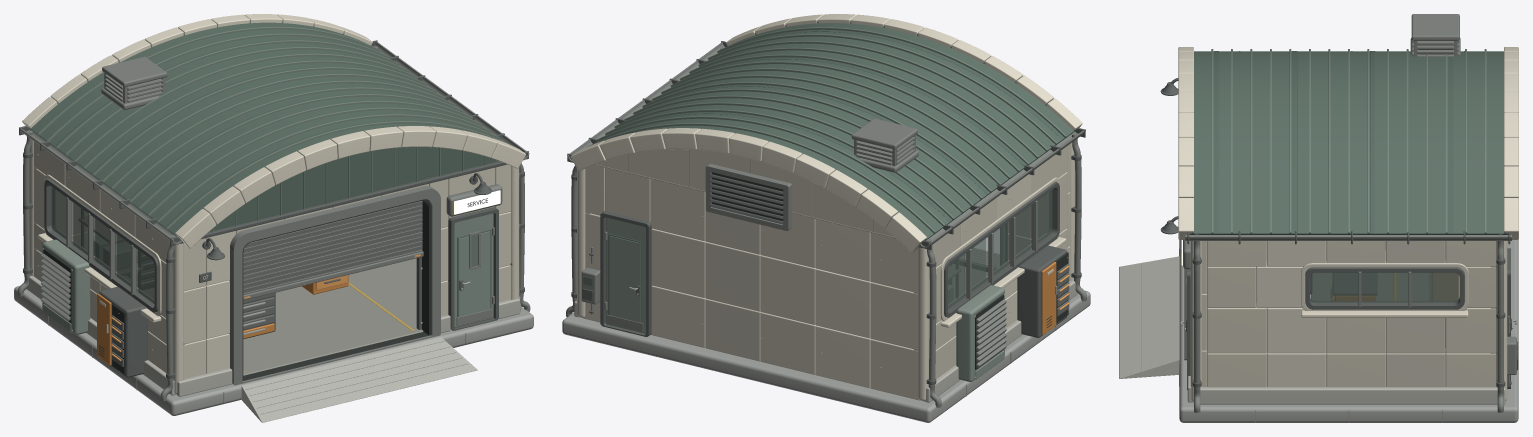
The model's file is arched_workshop.glb.
The picture shows the model from 3 angles, left to right: view 1: azimuth 30°, elevation 25°; view 2: azimuth 150°, elevation 25°; view 3: azimuth 270°, elevation 25°; orthographic projection. The views are drawn at different scales.
Visible parts, largest first — view 1: Roof | continuous thick barrel vault, Interior | continuous floor slab, Entry | poured tapered concrete ramp, Front | sage vaulted gable infill, Garage | sculpted graphite surround, Foundation | rounded cast slab, Garage | inner weather seal, Left long window band | rounded graphite glazing frame, Front personnel door | inner field, Exterior tools | rounded steel body, HVAC | wall-mounted sage service casing, Front personnel door | rounded steel jamb (+82 smaller); view 2: Roof | continuous thick barrel vault, Foundation | rounded cast slab, Rear | ivory vaulted masonry gable, Rear masonry panel 03.001, Rear masonry panel 01.001, Rear masonry panel 02.001, Rear masonry panel 04.001, Rear masonry panel 03, Rear masonry panel 01, Rear masonry panel 02, Rear masonry panel 01.002, Rear masonry panel 04.002 (+73 smaller); view 3: Roof | continuous thick barrel vault, Foundation | rounded cast slab, Entry | poured tapered concrete ramp, Side | protective plinth course.001, Right masonry band panel 00.001, Right service window band | rounded graphite glazing frame, Right masonry band panel 01.001, Interior | continuous floor slab, Right masonry band panel 02.001, Right masonry band panel 03.001, Right masonry band panel 04.001, Right masonry band panel 01 (+48 smaller).
Boxes of the visible parts, box(x1,y1,x2,y2) form: Roof | continuous thick barrel vault: box(28, 22, 497, 239); Interior | continuous floor slab: box(142, 258, 423, 375); Entry | poured tapered concrete ramp: box(241, 337, 477, 422); Front | sage vaulted gable infill: box(209, 147, 498, 231); Garage | sculpted graphite surround: box(229, 186, 440, 385); Foundation | rounded cast slab: box(14, 286, 533, 415); Garage | inner weather seal: box(242, 199, 430, 380); Left long window band | rounded graphite glazing frame: box(44, 179, 158, 312); Front personnel door | inner field: box(459, 231, 490, 316); Exterior tools | rounded steel body: box(99, 286, 147, 377); HVAC | wall-mounted sage service casing: box(42, 239, 90, 334); Front personnel door | rounded steel jamb: box(448, 207, 498, 330); Roof | continuous thick barrel vault: box(601, 23, 1075, 243); Foundation | rounded cast slab: box(562, 290, 1090, 422); Rear | ivory vaulted masonry gable: box(596, 149, 894, 237); Rear masonry panel 03.001: box(705, 242, 760, 311); Rear masonry panel 01.001: box(815, 268, 870, 338); Rear masonry panel 02.001: box(760, 255, 815, 324); Rear masonry panel 04.001: box(651, 228, 705, 298); Rear masonry panel 03: box(705, 298, 760, 361); Rear masonry panel 01: box(815, 325, 870, 388); Rear masonry panel 02: box(760, 312, 815, 374); Rear masonry panel 01.002: box(815, 219, 870, 281); Rear masonry panel 04.002: box(650, 179, 705, 241); Roof | continuous thick barrel vault: box(1189, 51, 1510, 234); Foundation | rounded cast slab: box(1179, 240, 1518, 422); Entry | poured tapered concrete ramp: box(1119, 256, 1179, 378); Side | protective plinth course.001: box(1200, 387, 1505, 404); Right masonry band panel 00.001: box(1207, 303, 1266, 353); Right service window band | rounded graphite glazing frame: box(1305, 267, 1464, 309); Right masonry band panel 01.001: box(1267, 308, 1326, 353); Interior | continuous floor slab: box(1256, 241, 1445, 386); Right masonry band panel 02.001: box(1326, 318, 1385, 353); Right masonry band panel 03.001: box(1386, 318, 1445, 353); Right masonry band panel 04.001: box(1445, 308, 1496, 353); Right masonry band panel 01: box(1267, 352, 1326, 387).
Bounding box in the file's own units: 7.49 × 4.5 × 6.4.
